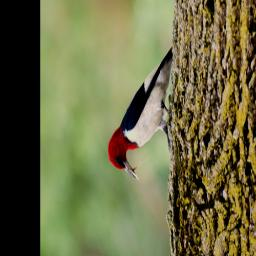Woodpecker: (107, 49, 172, 178)
